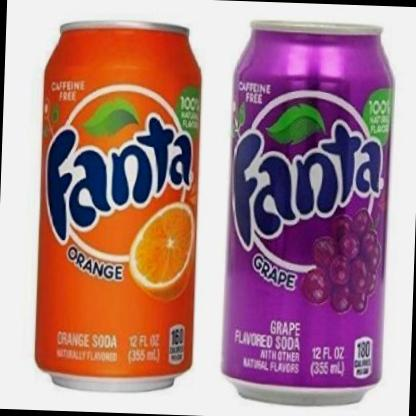alumunium_can: (220, 13, 399, 412), (31, 15, 207, 396)
